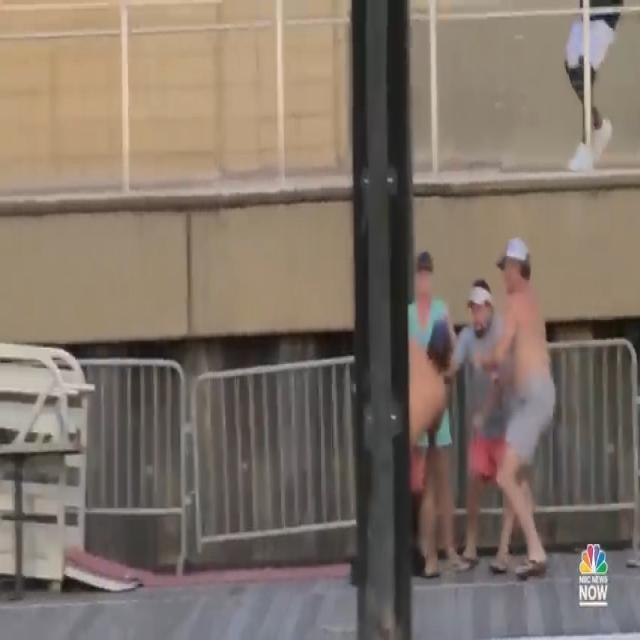fight: (394, 211, 562, 586)
